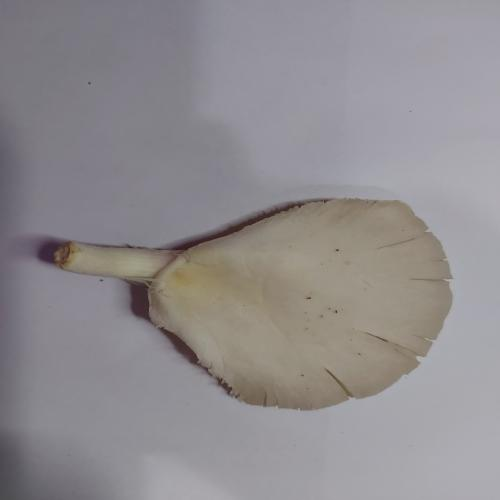Oyster Mushroom: (53, 196, 455, 411)
